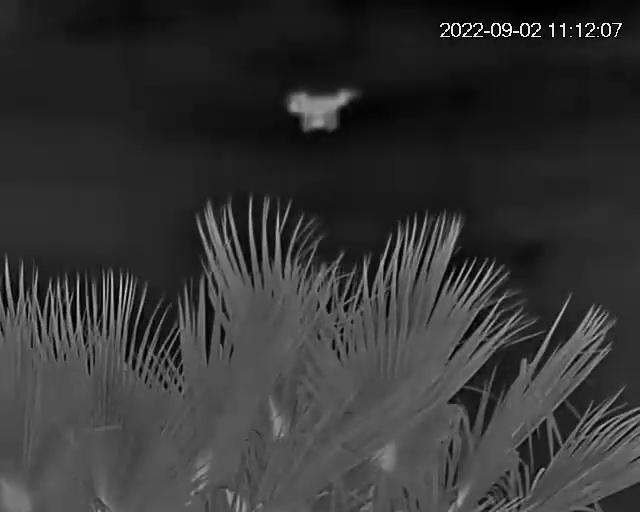DJI-Phantom: (290, 88, 360, 133)
